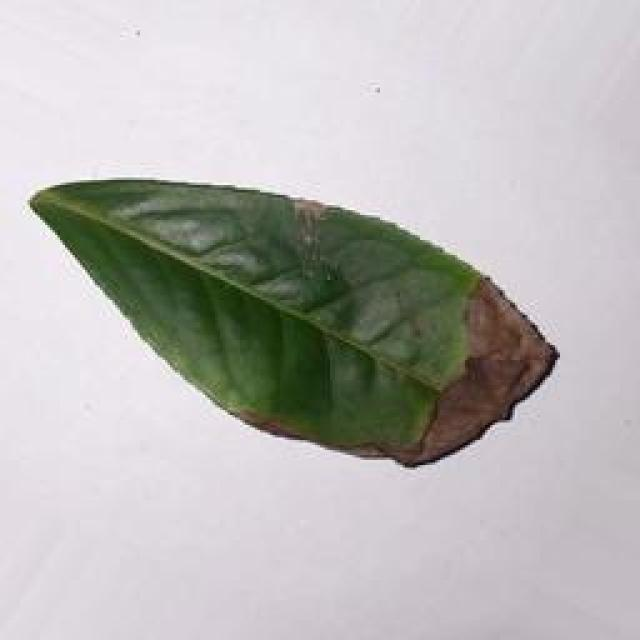Brown Blight: (20, 166, 566, 483)
